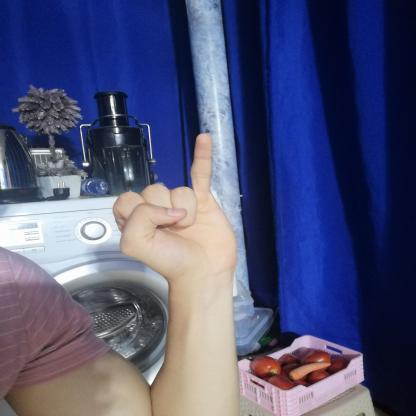MEEM: (97, 123, 248, 284)
